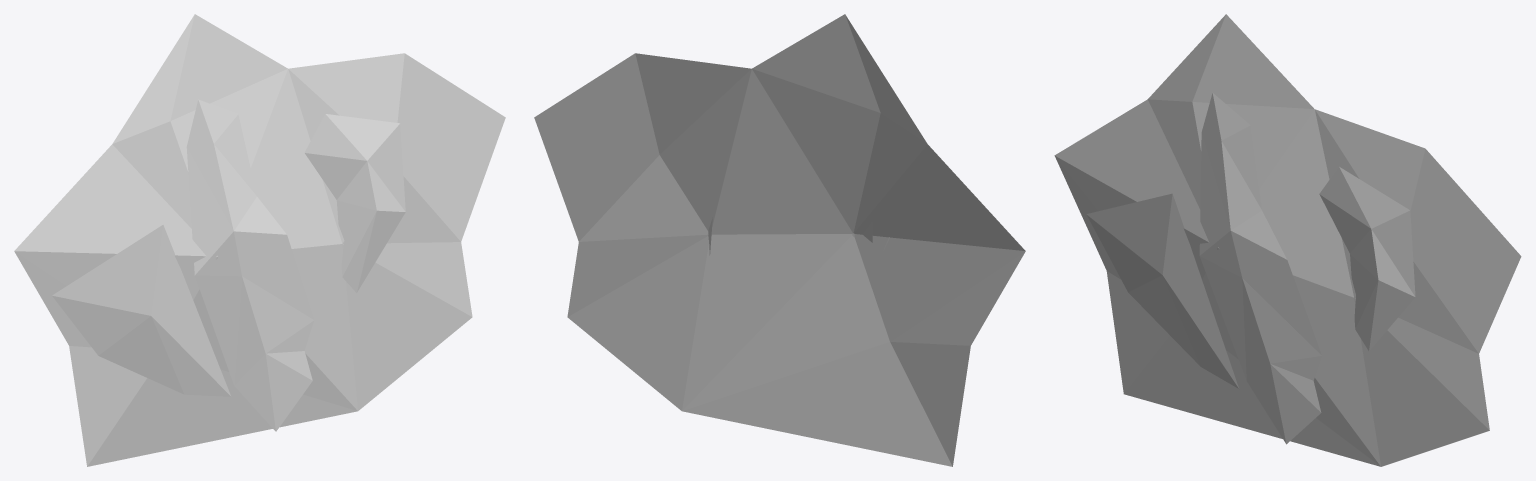
File: SM_Env_Ivy_Flowers_02.glb
3 views of the same model, side by side, from view 1: azimuth 30°, elevation 25°; view 2: azimuth 150°, elevation 25°; view 3: azimuth 330°, elevation 25° (orthographic). The views are drawn at different scales.
Parts seen in each view (by area): view 1: SM_Env_Ivy_Flowers_02; view 2: SM_Env_Ivy_Flowers_02; view 3: SM_Env_Ivy_Flowers_02.
Part boxes in pixels (x1,y1,x2,y2): SM_Env_Ivy_Flowers_02: (14,14,505,466); SM_Env_Ivy_Flowers_02: (534,14,1025,466); SM_Env_Ivy_Flowers_02: (1054,14,1521,466).
Bounding box in the file's own units: 2.03 × 1.72 × 0.1218.
Materials: 1 (1 with a texture image).
